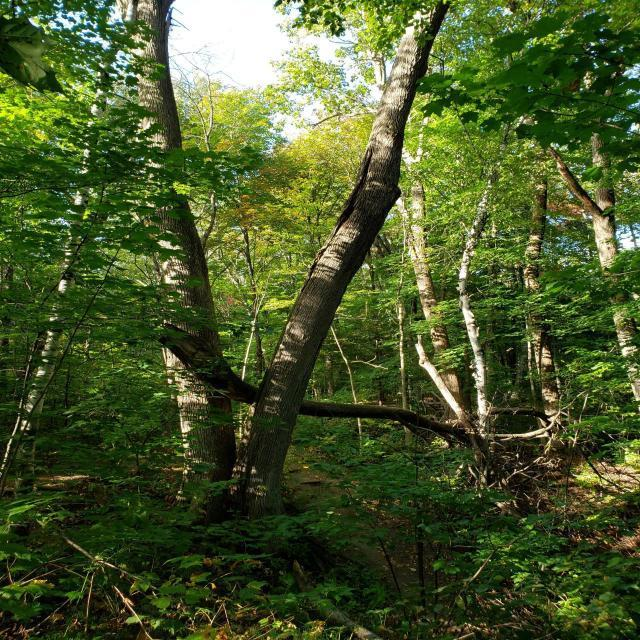fallen_object: (67, 292, 640, 534)
